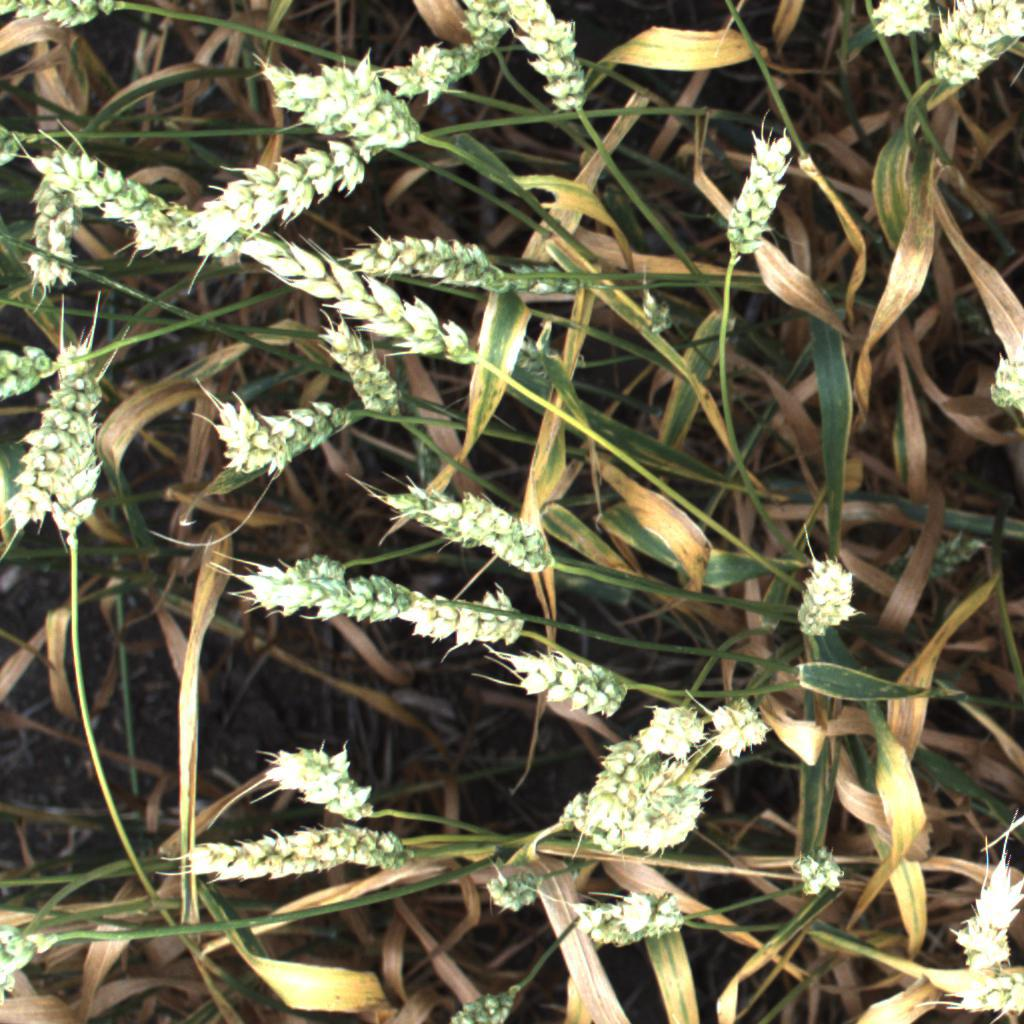0-0: (216, 229, 481, 368), (182, 128, 401, 262), (18, 141, 236, 267), (369, 473, 564, 583), (1, 332, 99, 548), (166, 816, 410, 893), (258, 50, 429, 159), (198, 380, 357, 478), (545, 758, 747, 835), (14, 139, 100, 300), (498, 640, 648, 732), (710, 121, 803, 264), (578, 710, 681, 839), (509, 0, 614, 124), (39, 361, 109, 543), (361, 222, 539, 292), (902, 0, 1024, 99), (252, 737, 386, 827), (253, 561, 425, 629), (943, 842, 1024, 985), (309, 323, 419, 426), (260, 817, 428, 877), (396, 586, 541, 655), (589, 791, 722, 854), (781, 549, 871, 642), (1, 333, 109, 404), (373, 34, 476, 102), (551, 258, 684, 305), (562, 885, 688, 934), (704, 687, 783, 765), (0, 906, 68, 994), (0, 0, 126, 42), (585, 906, 700, 951), (855, 0, 948, 55), (778, 841, 855, 904), (472, 857, 549, 917), (640, 694, 704, 766), (976, 336, 1024, 426), (453, 0, 511, 72), (447, 976, 525, 1024), (1010, 0, 1024, 42)
